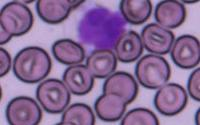M: (74, 1, 129, 53)
